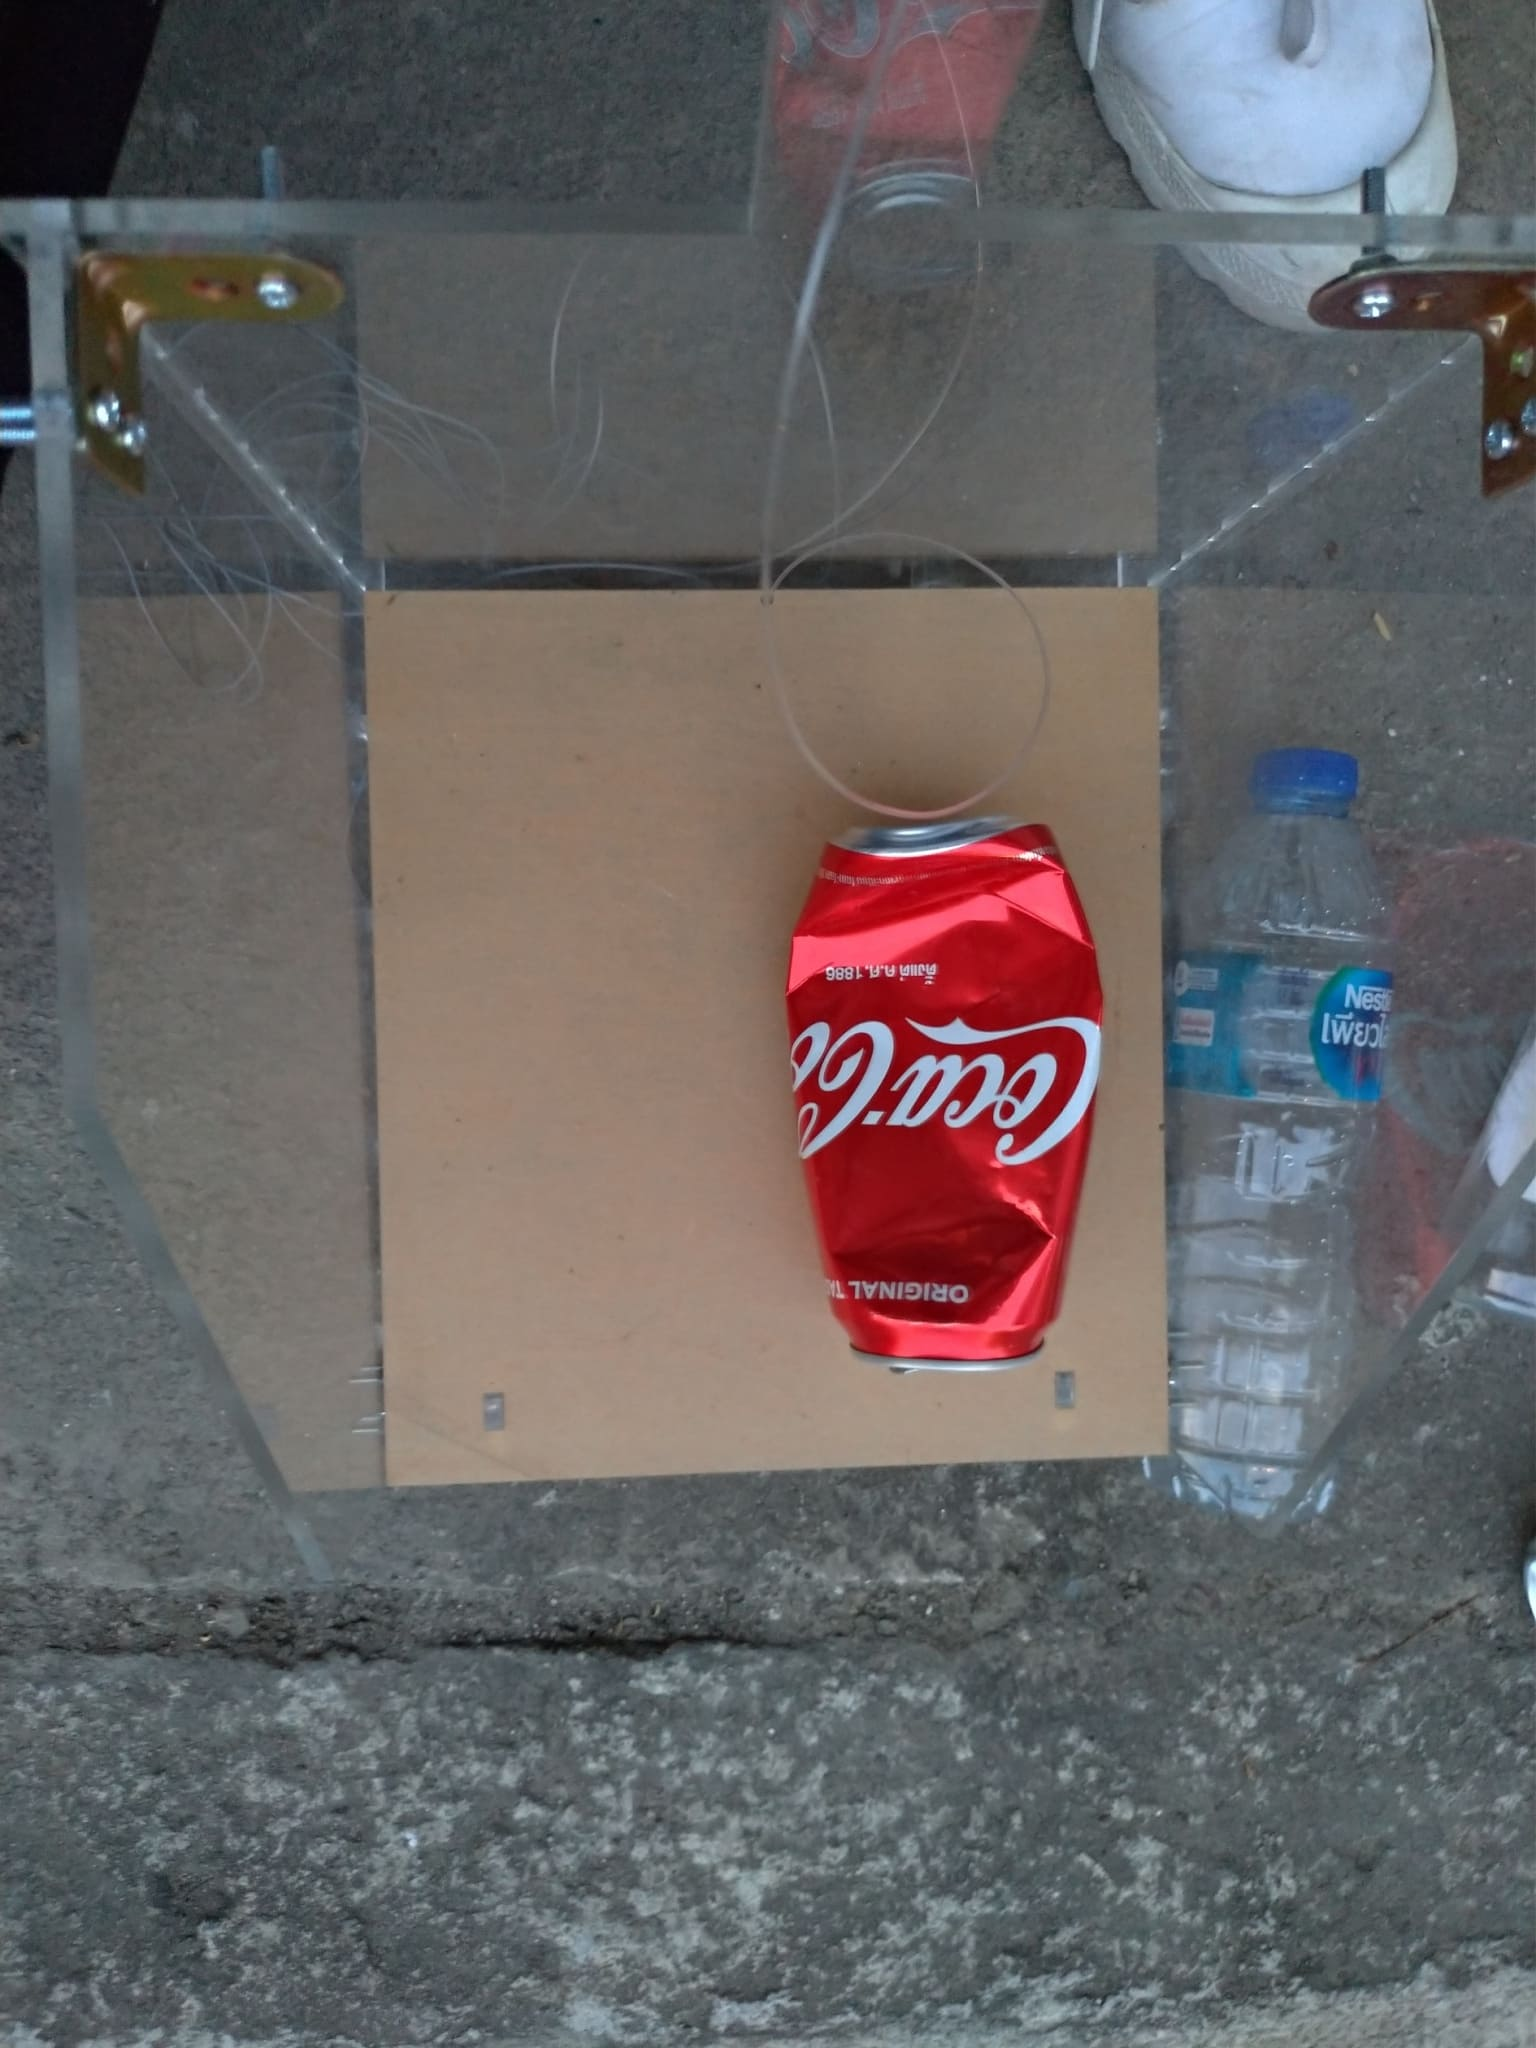AlCan: (778, 822, 1112, 1380)
PlasticBottle: (1146, 751, 1391, 1516)
